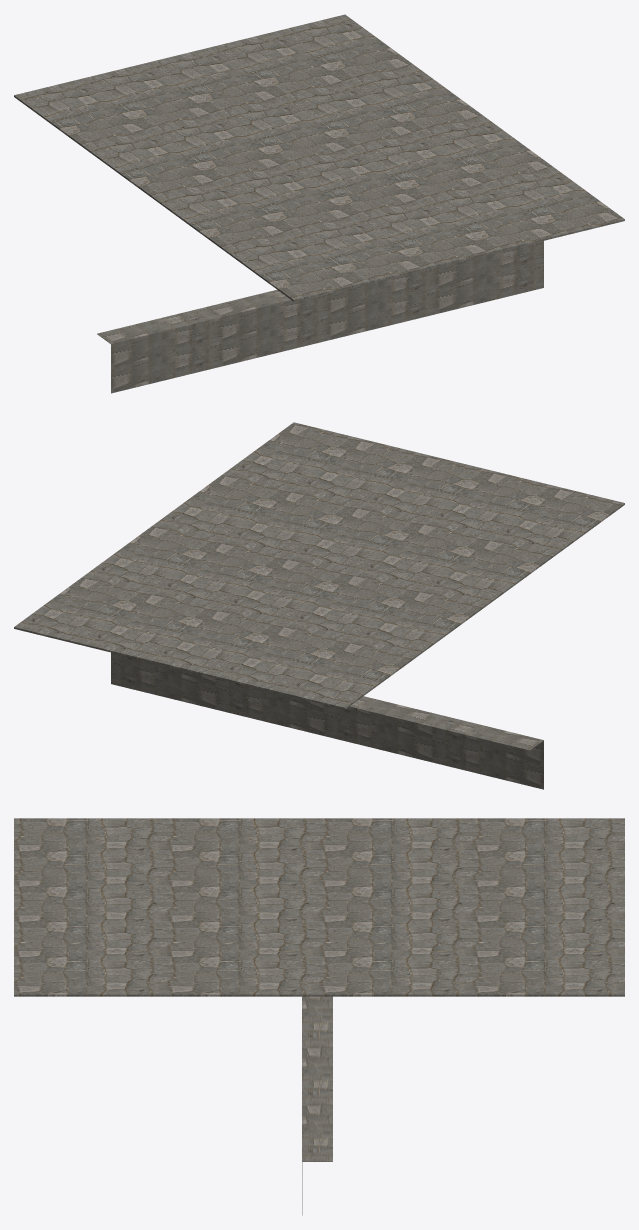
The model's file is stanzabasketfix2.fbx.
The picture shows the model from 3 angles, top to bottom: view 1: azimuth 30°, elevation 25°; view 2: azimuth 150°, elevation 25°; view 3: azimuth 270°, elevation 25°; orthographic projection. The views are drawn at different scales.
Parts seen in each view (by area): view 1: Plane.002, Plane.003, Plane.001, Plane; view 2: Plane.002, Plane.003, Plane.001, Plane; view 3: Plane.002, Plane.
Boxes of the visible parts, x1,y1,x2,y2 form: Plane.002: (14, 14, 624, 301); Plane.003: (111, 264, 543, 393); Plane.001: (111, 241, 543, 367); Plane: (97, 290, 291, 344); Plane.002: (14, 422, 624, 709); Plane.003: (111, 660, 543, 789); Plane.001: (111, 652, 543, 765); Plane: (349, 696, 543, 750); Plane.002: (14, 818, 624, 996); Plane: (302, 996, 332, 1161).
Size of the model in its own units: 1300 by 509 by 1455.
2 materials, 2 textured.
